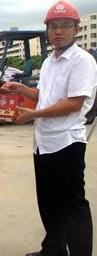boots: (0, 218, 13, 254), (0, 226, 14, 249)
hard-hat: (0, 15, 15, 38)
ppe-suit: (0, 38, 46, 255)
vest: (0, 38, 39, 141)
